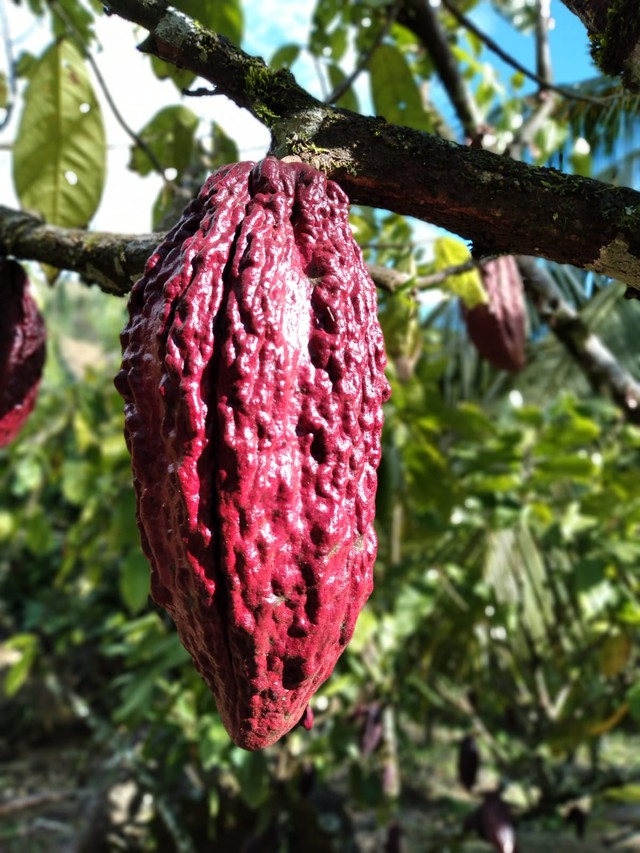Health: (110, 152, 404, 766)
